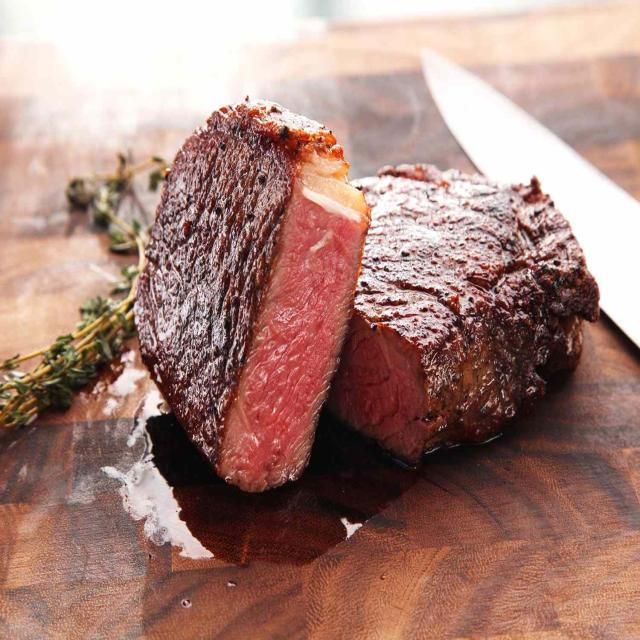Carne: (132, 96, 372, 493), (328, 160, 600, 470)
